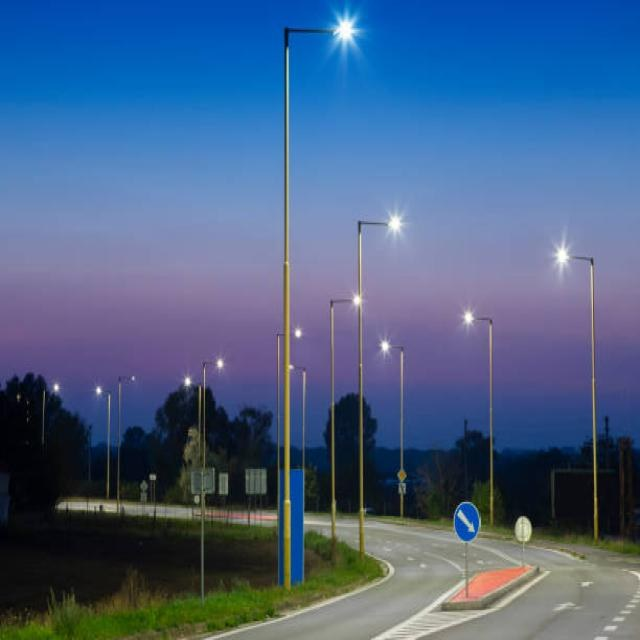acesa: (325, 7, 366, 52), (382, 206, 410, 236), (551, 240, 573, 269), (375, 330, 396, 358), (459, 304, 478, 330), (211, 353, 226, 373), (291, 323, 307, 341), (350, 291, 364, 309), (182, 371, 194, 389), (94, 383, 105, 398)
